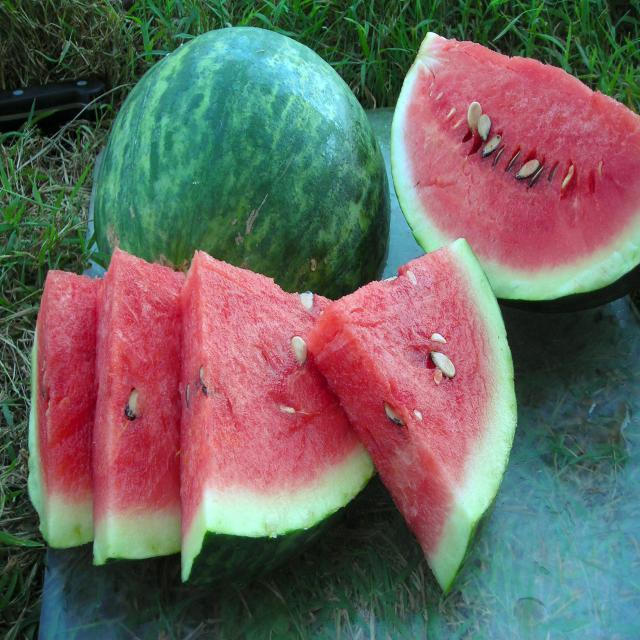WATERMELON: (91, 26, 392, 292), (312, 233, 528, 592), (187, 244, 389, 578), (185, 246, 388, 578), (394, 32, 640, 294), (96, 250, 192, 588), (27, 262, 108, 556)
